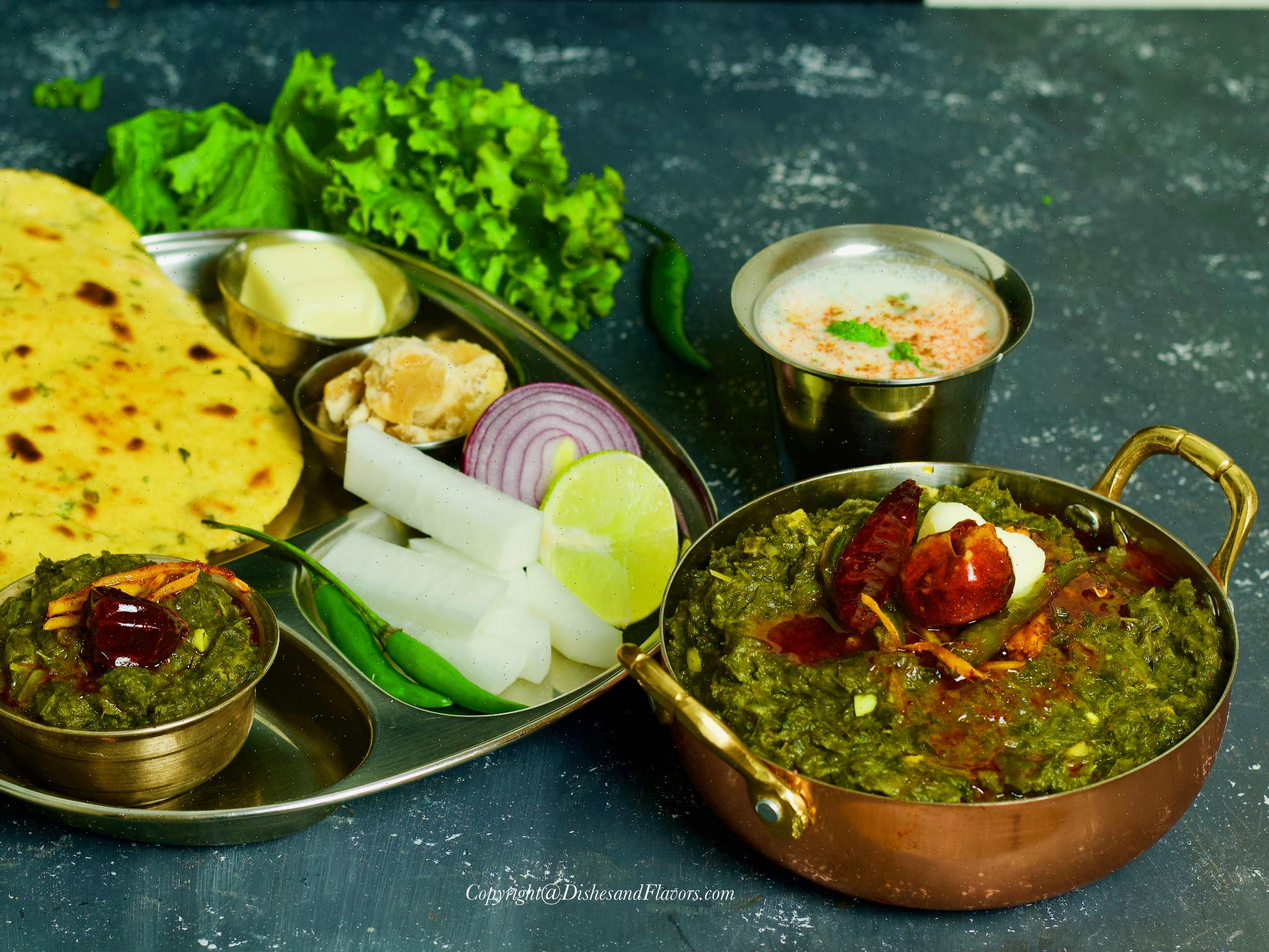saag: (674, 472, 1237, 813)
